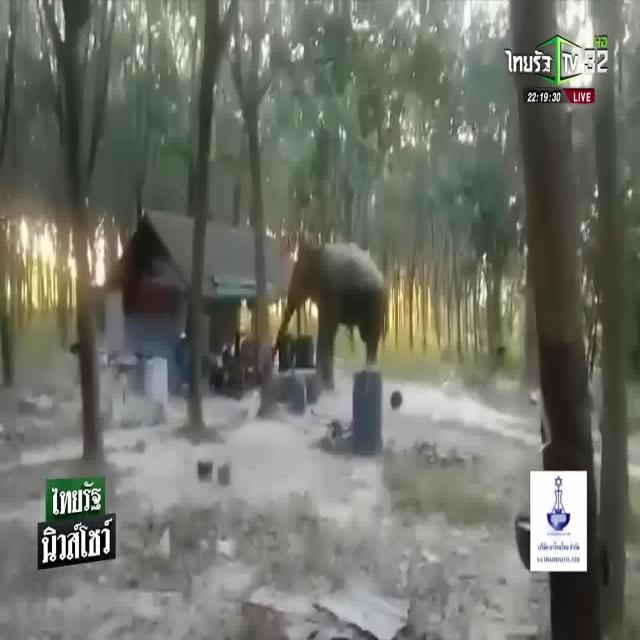Elephant: (286, 229, 386, 361)
